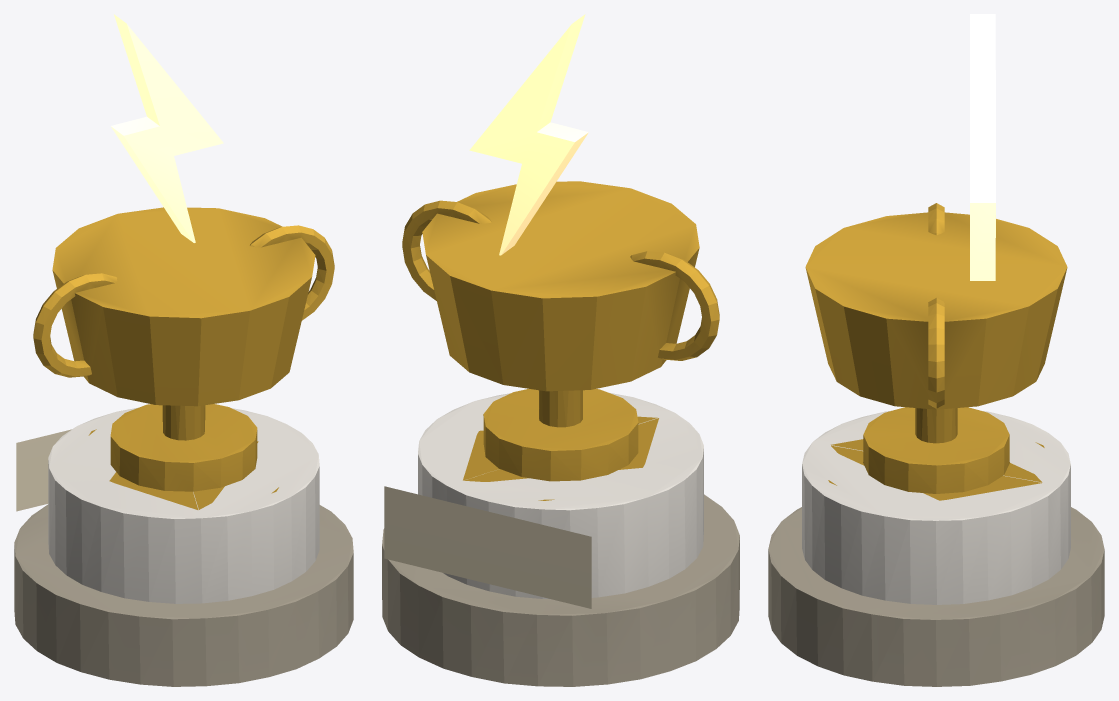
Rendered from trophy_reaction_low.glb.
3 renders of one model, left to right at view 1: azimuth 30°, elevation 25°; view 2: azimuth 150°, elevation 25°; view 3: azimuth 270°, elevation 25°, orthographic. The views are drawn at different scales.
Visible parts, largest first — view 1: common_pedestal, symbol, trophy_plate; view 2: symbol, common_pedestal, trophy_plate; view 3: common_pedestal, symbol.
Part boxes in pixels (x1=…): common_pedestal: x1=14, y1=408, x2=353, y2=686; symbol: x1=33, y1=14, x2=334, y2=491; trophy_plate: x1=16, y1=429, x2=71, y2=511; symbol: x1=402, y1=14, x2=719, y2=481; common_pedestal: x1=382, y1=392, x2=739, y2=686; trophy_plate: x1=384, y1=486, x2=591, y2=608; common_pedestal: x1=768, y1=410, x2=1104, y2=686; symbol: x1=805, y1=14, x2=1067, y2=493.
Bounding box in the file's own units: 0.9183 × 1.72 × 0.8987.
